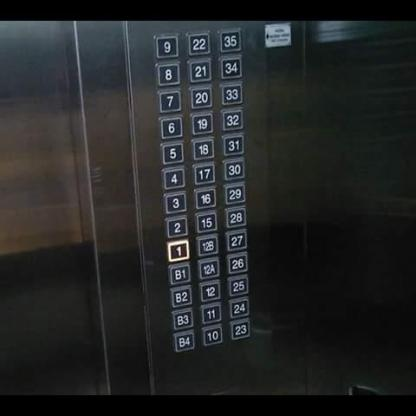1: (166, 238, 188, 261)
10: (200, 324, 222, 345)
11: (199, 302, 221, 324)
12: (199, 280, 220, 301)
12A: (197, 258, 218, 278)
12B: (195, 233, 218, 257)
15: (194, 210, 217, 233)
16: (192, 186, 215, 208)
17: (190, 161, 216, 185)
18: (190, 137, 216, 160)
19: (189, 111, 214, 135)
2: (165, 214, 187, 237)
20: (188, 86, 213, 110)
21: (186, 58, 212, 82)
22: (186, 31, 210, 56)
23: (229, 318, 250, 339)
24: (227, 297, 249, 318)
25: (227, 274, 249, 295)
26: (226, 251, 248, 272)
27: (225, 228, 247, 249)
28: (224, 204, 247, 228)
29: (223, 182, 245, 205)
3: (163, 191, 186, 215)
30: (222, 157, 245, 178)
31: (221, 133, 244, 154)
32: (220, 108, 244, 131)
33: (219, 82, 243, 105)
34: (219, 55, 243, 78)
35: (218, 27, 241, 51)
4: (161, 166, 185, 190)
5: (159, 140, 184, 164)
6: (158, 115, 183, 139)
7: (157, 88, 181, 112)
8: (155, 61, 180, 86)
9: (154, 34, 178, 58)
B1: (168, 261, 191, 283)
B2: (170, 284, 192, 307)
B3: (171, 308, 193, 330)
B4: (172, 329, 194, 352)
